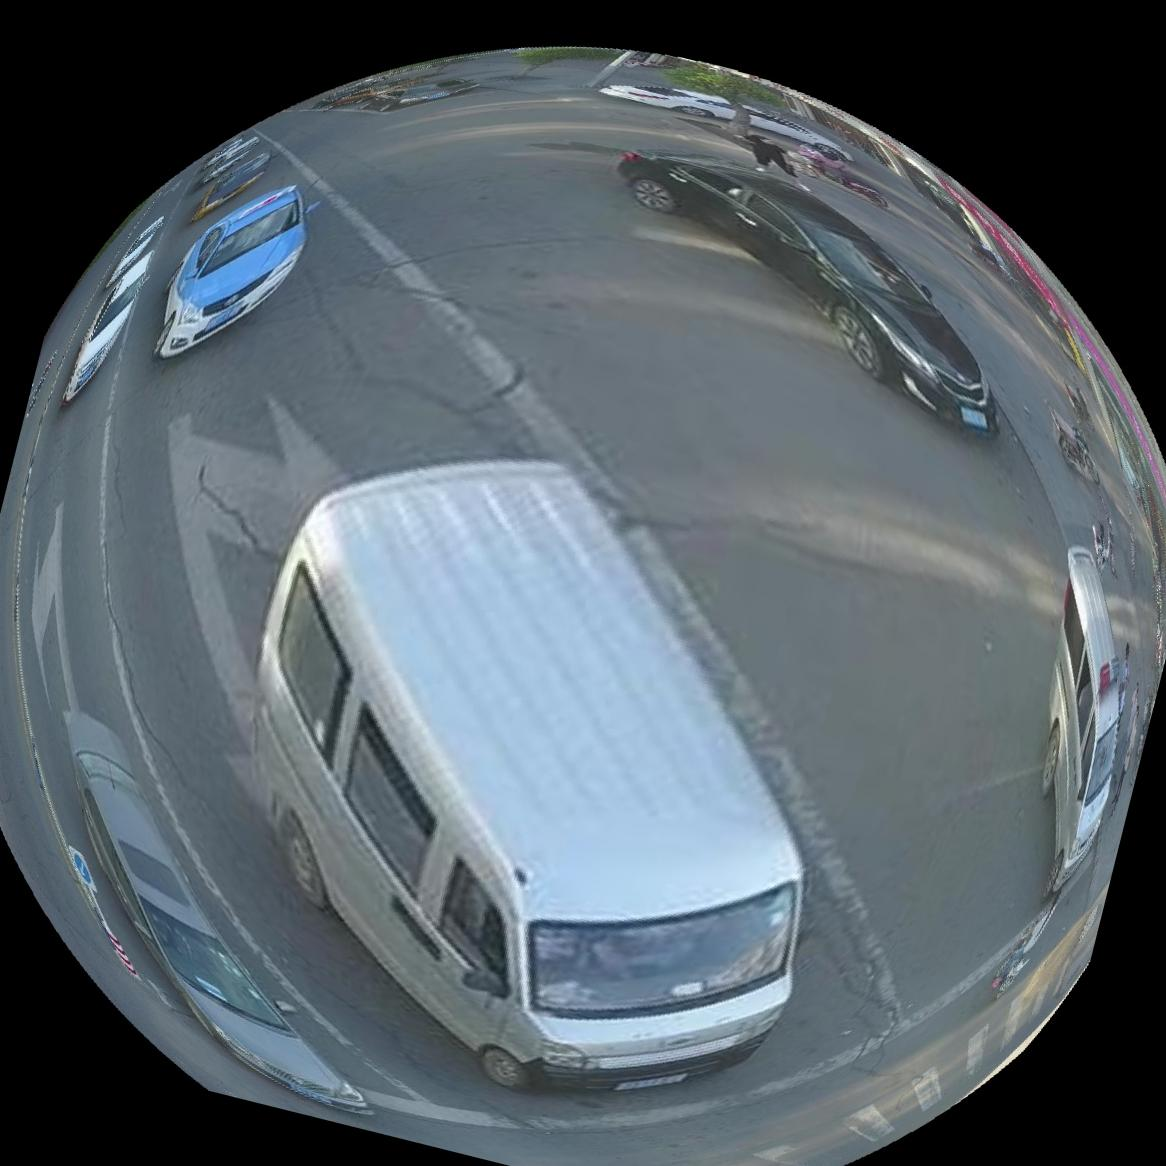cars: (252, 460, 803, 1089), (63, 713, 364, 1113), (618, 149, 997, 431), (1044, 546, 1123, 892), (152, 184, 305, 357), (599, 82, 851, 160), (61, 216, 161, 401)
